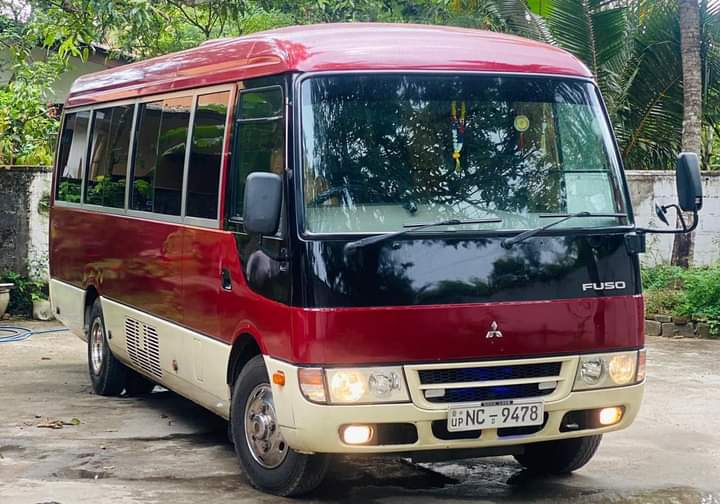number_plate: (443, 403, 543, 430)
